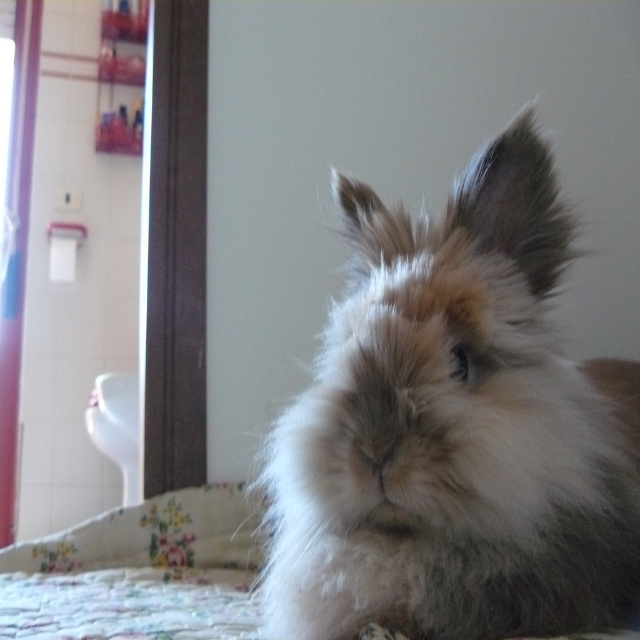Rabbit: (232, 94, 640, 640)
